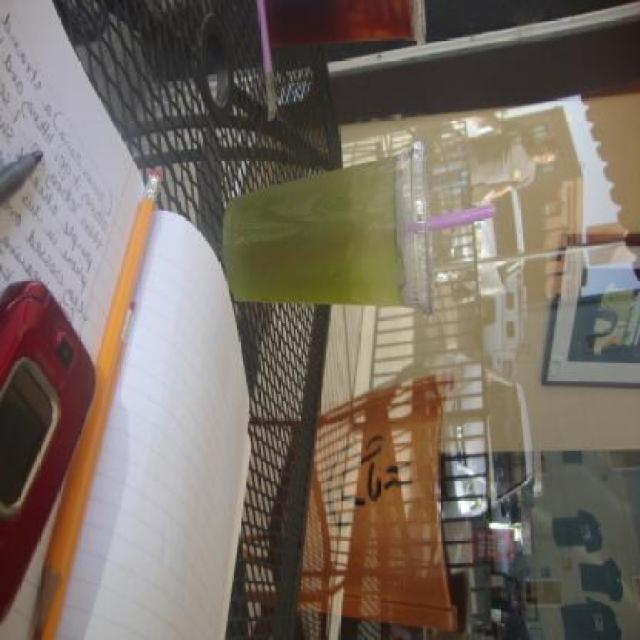phone: (0, 279, 97, 513)
